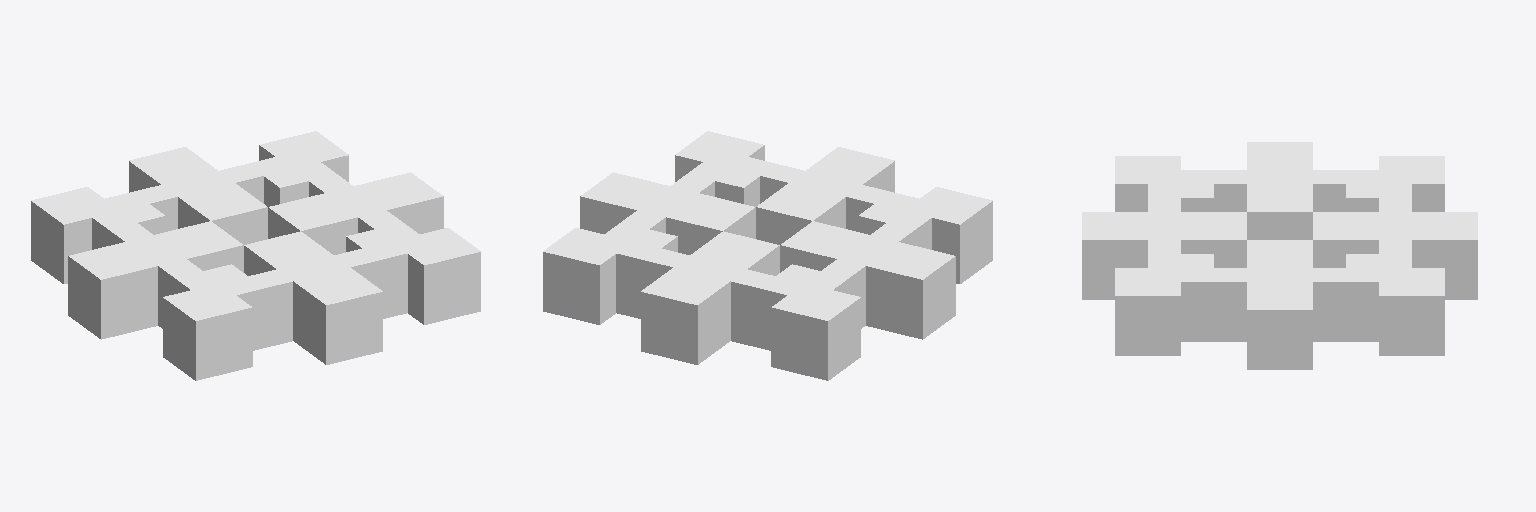
The model's file is Cog.obj.
3 renders of one model, left to right at view 1: azimuth 30°, elevation 25°; view 2: azimuth 150°, elevation 25°; view 3: azimuth 270°, elevation 25°, orthographic.
Parts seen in each view (by area): view 1: object 1; view 2: object 1; view 3: object 1.
Part boxes in pixels (x1,y1,x2,y2): object 1: (31,131,480,380); object 1: (543,131,992,380); object 1: (1082,142,1477,369).
Bounding box in the file's own units: 1.2 × 0.2 × 1.2.